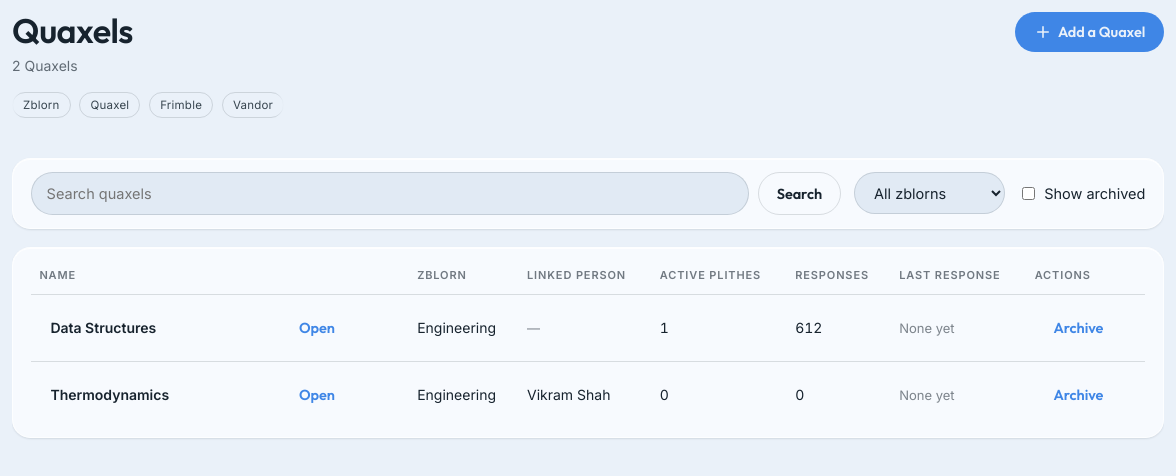
Scenario: filters live in the URL › filters by unit and toggles archived
Select "Engineering" in the dropdown named "Filter by Zblorn": {"x": 930, "y": 194} [854,172,1005,214]
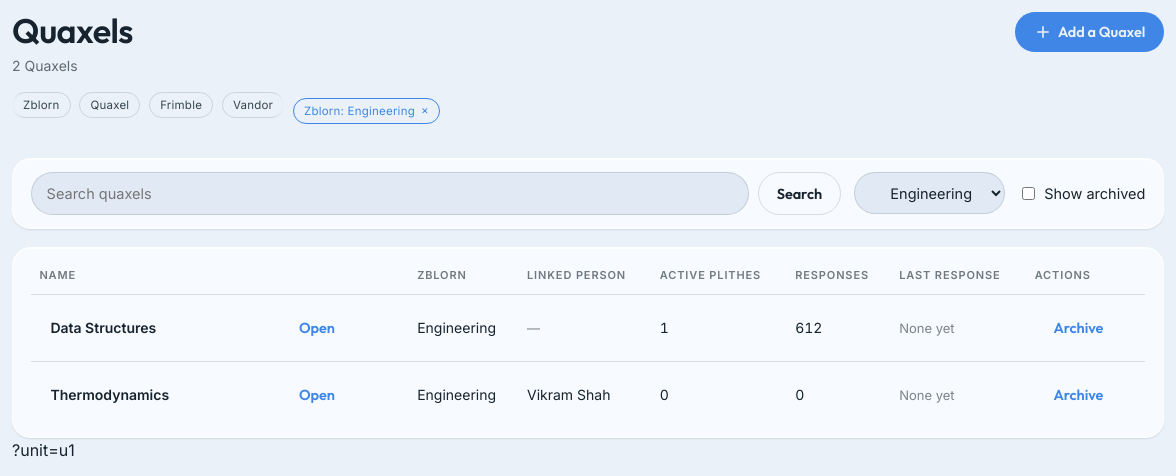
Expected: the text with test id "where" shows "unit=u1", [12,440,75,460]
Click the checkbox labelled "Show archived": {"x": 1029, "y": 194} [1022,187,1035,200]
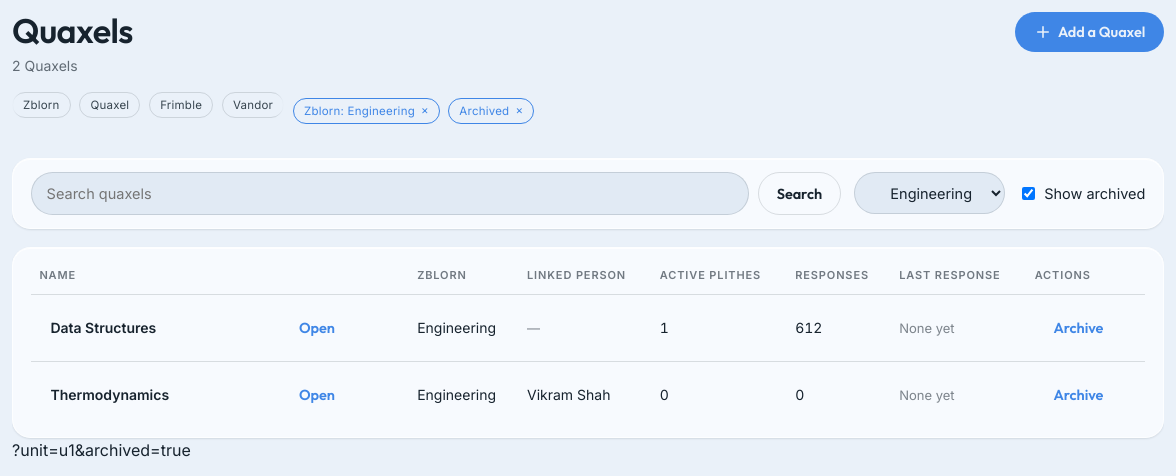
Expected: the text with test id "where" shows "archived=true", [12,440,191,460]
